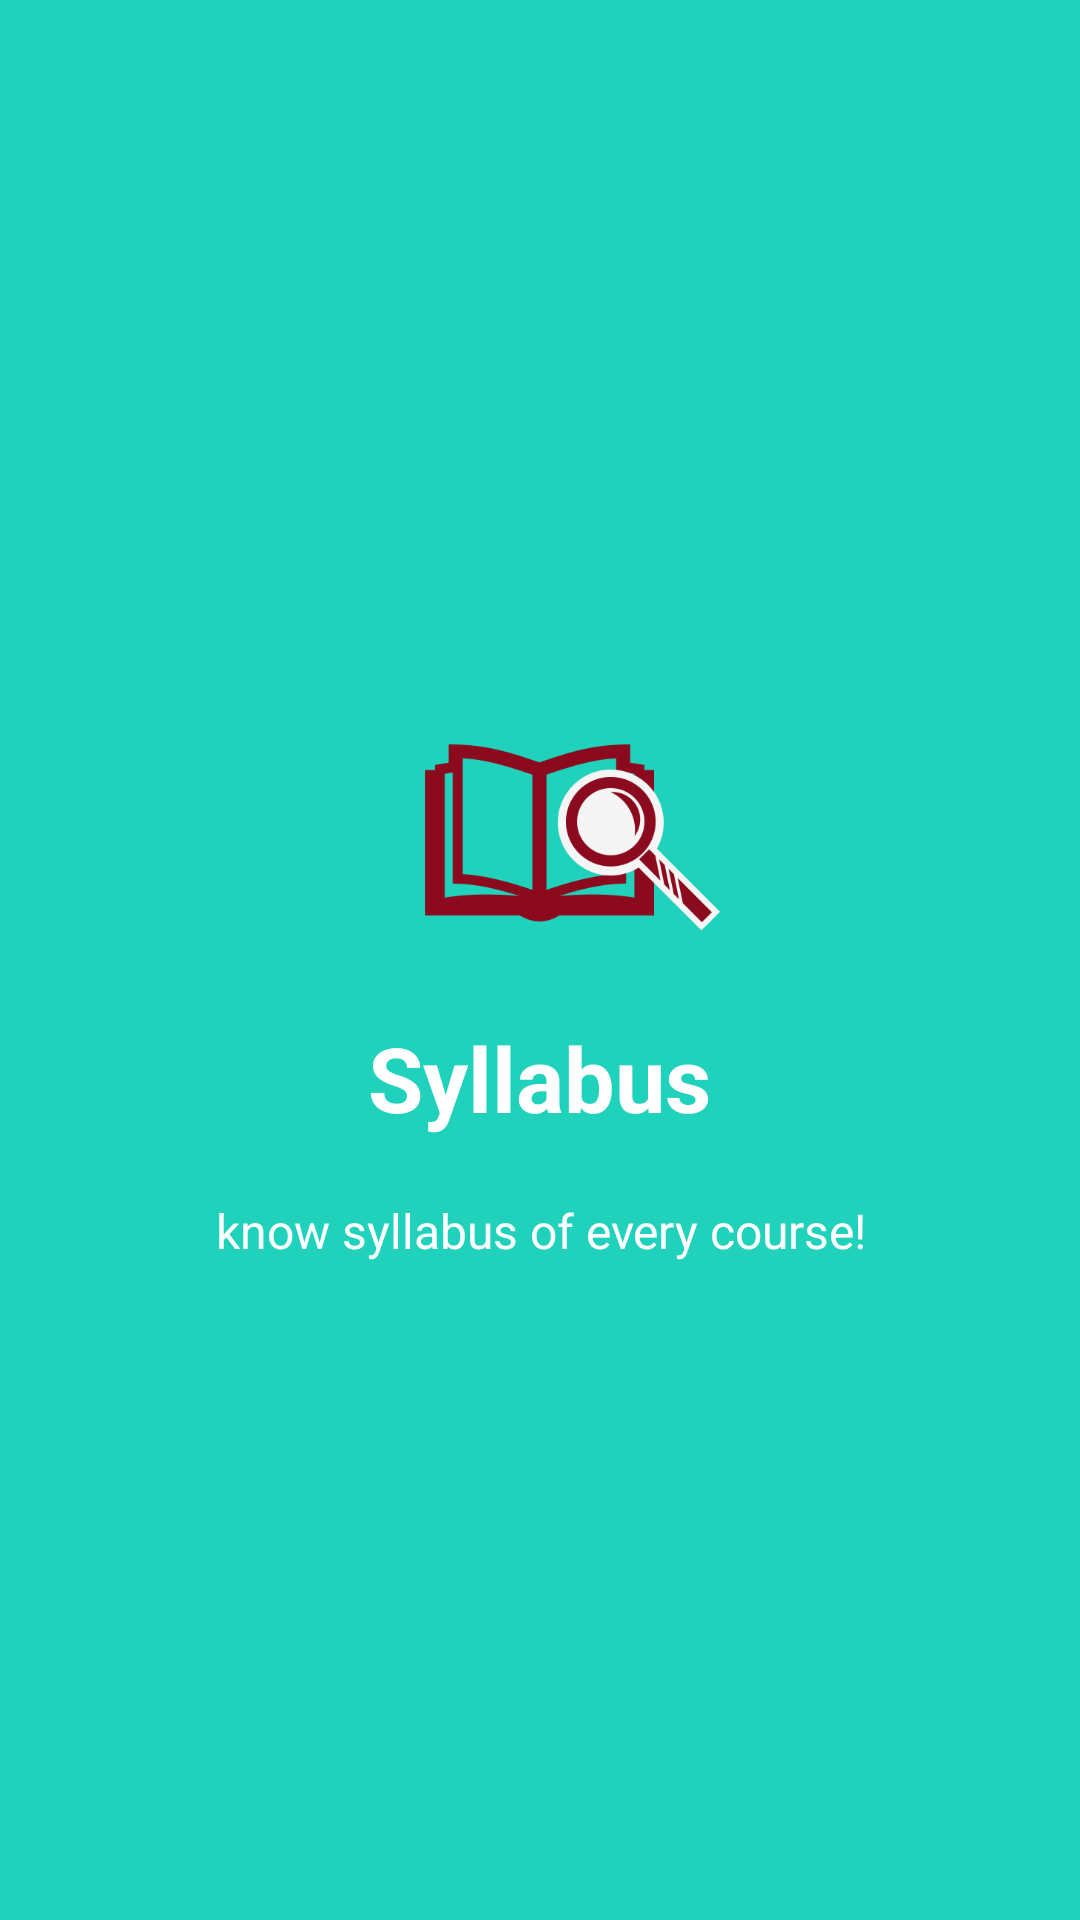

Icon click points for this 1080*1920 phone screenshot, format point (x, y):
book: point (572, 837)
